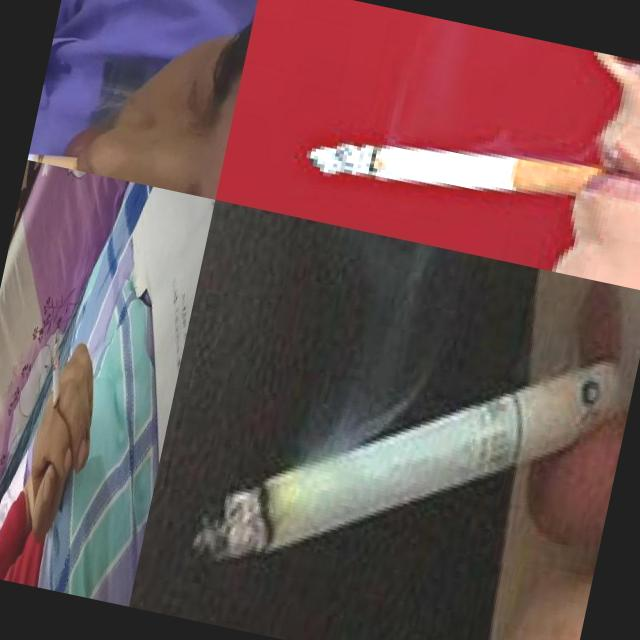cigarette: (187, 273, 636, 640), (302, 96, 634, 238), (34, 326, 78, 431)
